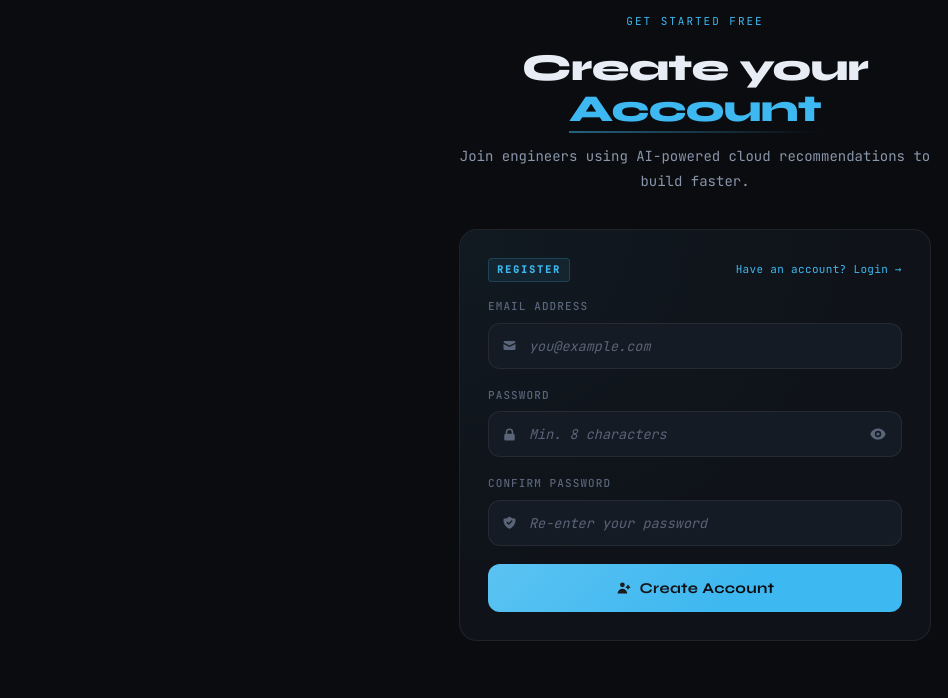
rejects short passwords
Type "alice@example.com" into the field labelled "Email Address" at (695, 346), box [488, 323, 902, 369]
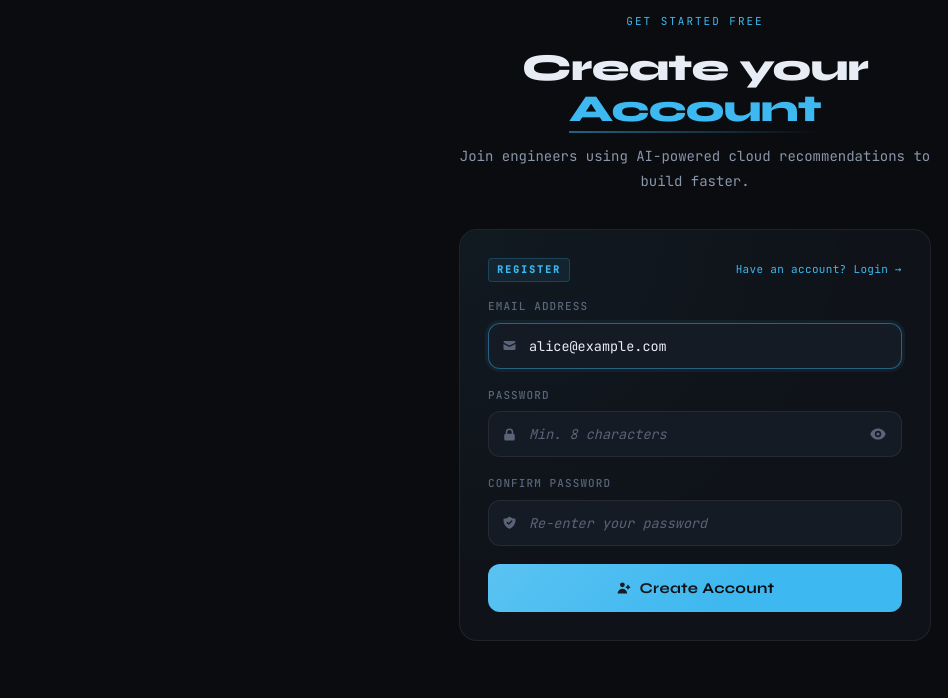
Type "1234567" into the password field labelled "Password" at (695, 434), box [488, 411, 902, 457]
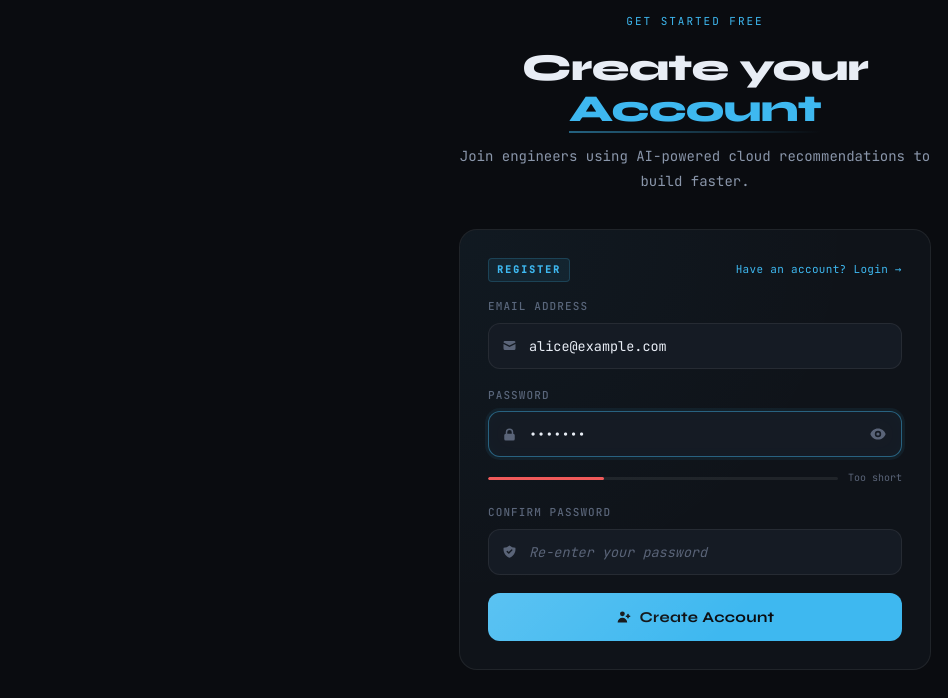
Type "1234567" into the password field labelled "Confirm Password" at (695, 552), box [488, 529, 902, 575]
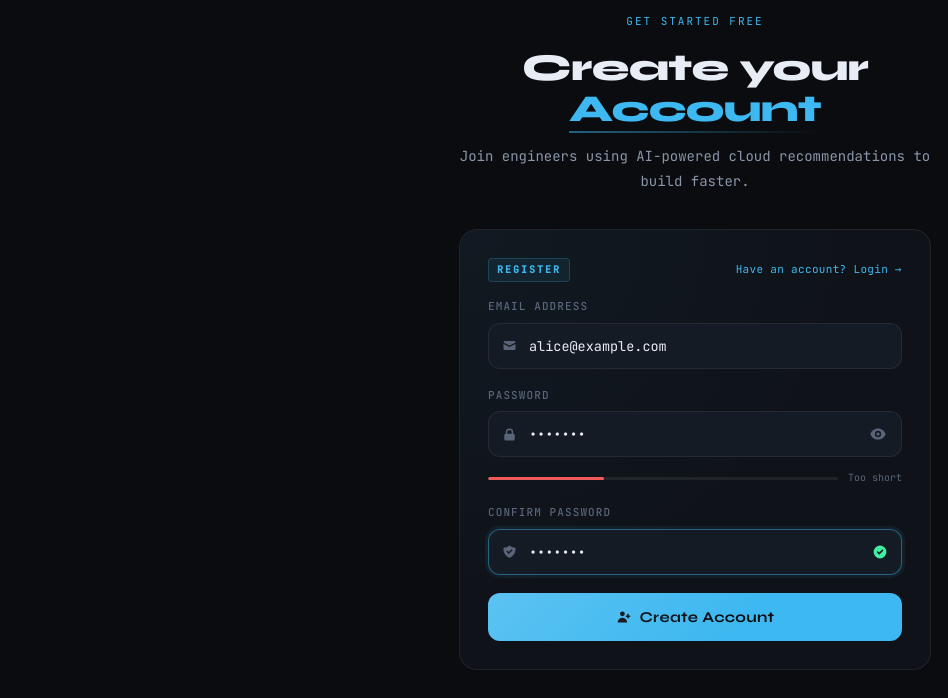
Click the button "Create Account" at (695, 617), box [488, 593, 902, 641]
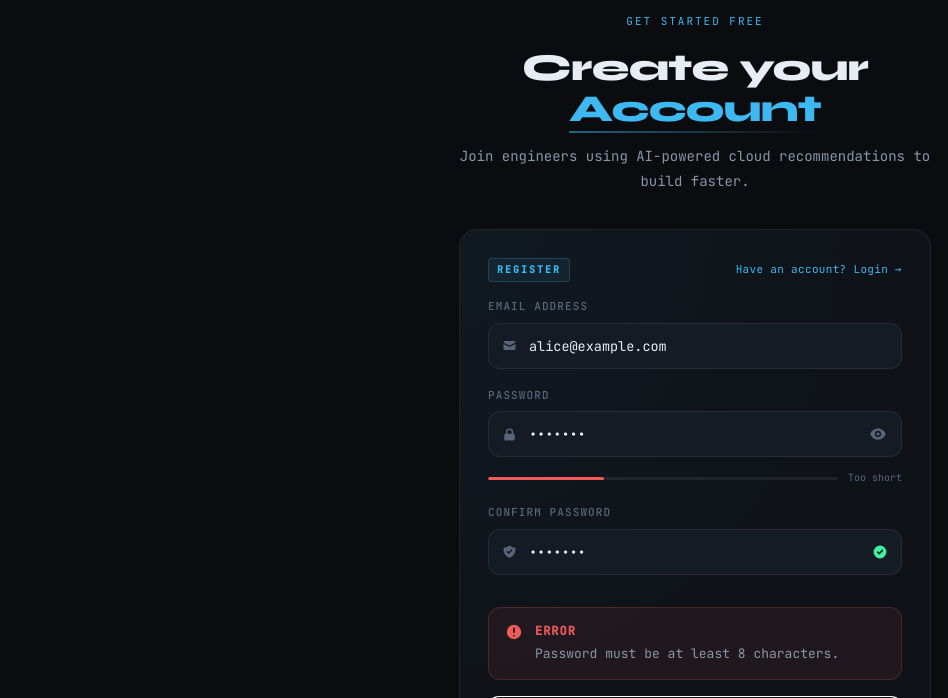
Expected: the text "Password must be at least 8 characters." is shown, [535, 644, 839, 665]
